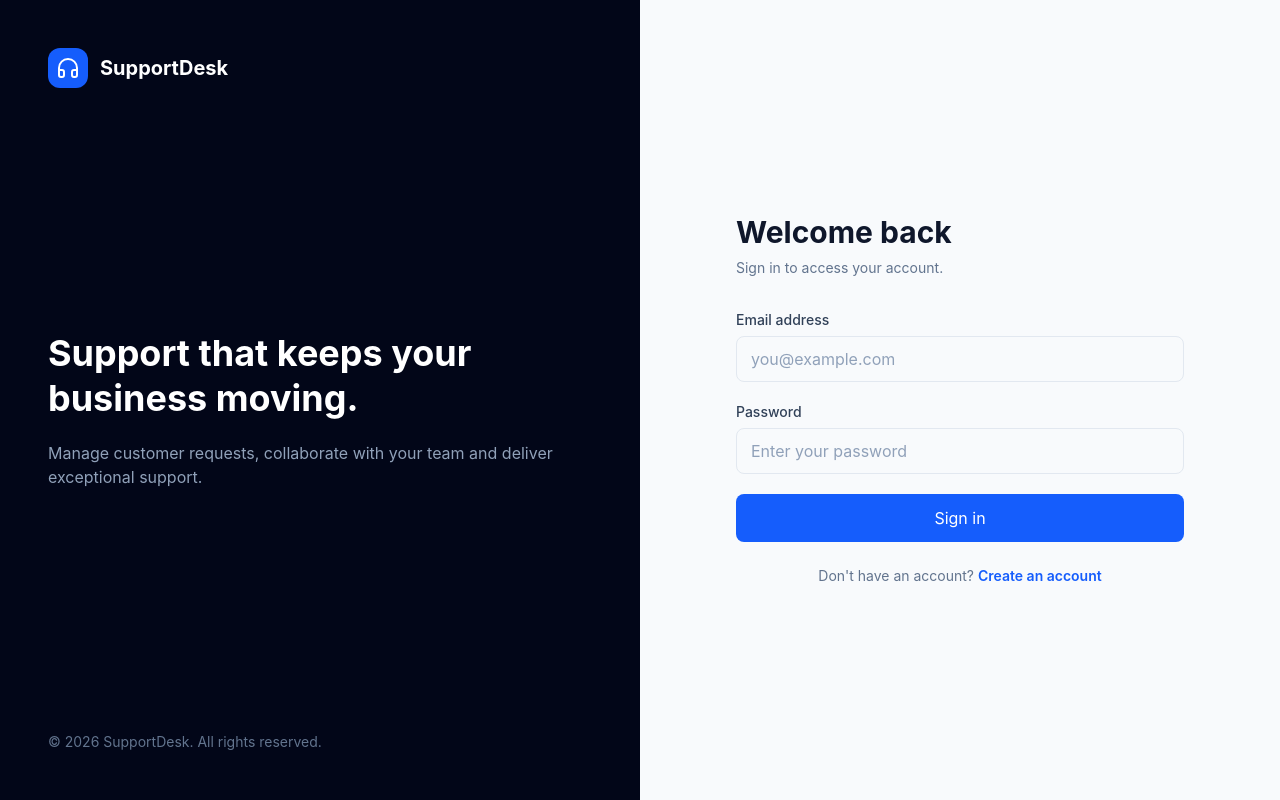
LoginPage › shows validation errors and does not submit invalid credentials
The width and height of the screenshot is (1280, 800).
Click the button "Sign in": [960, 518] box x1=736 y1=494 x2=1184 y2=542
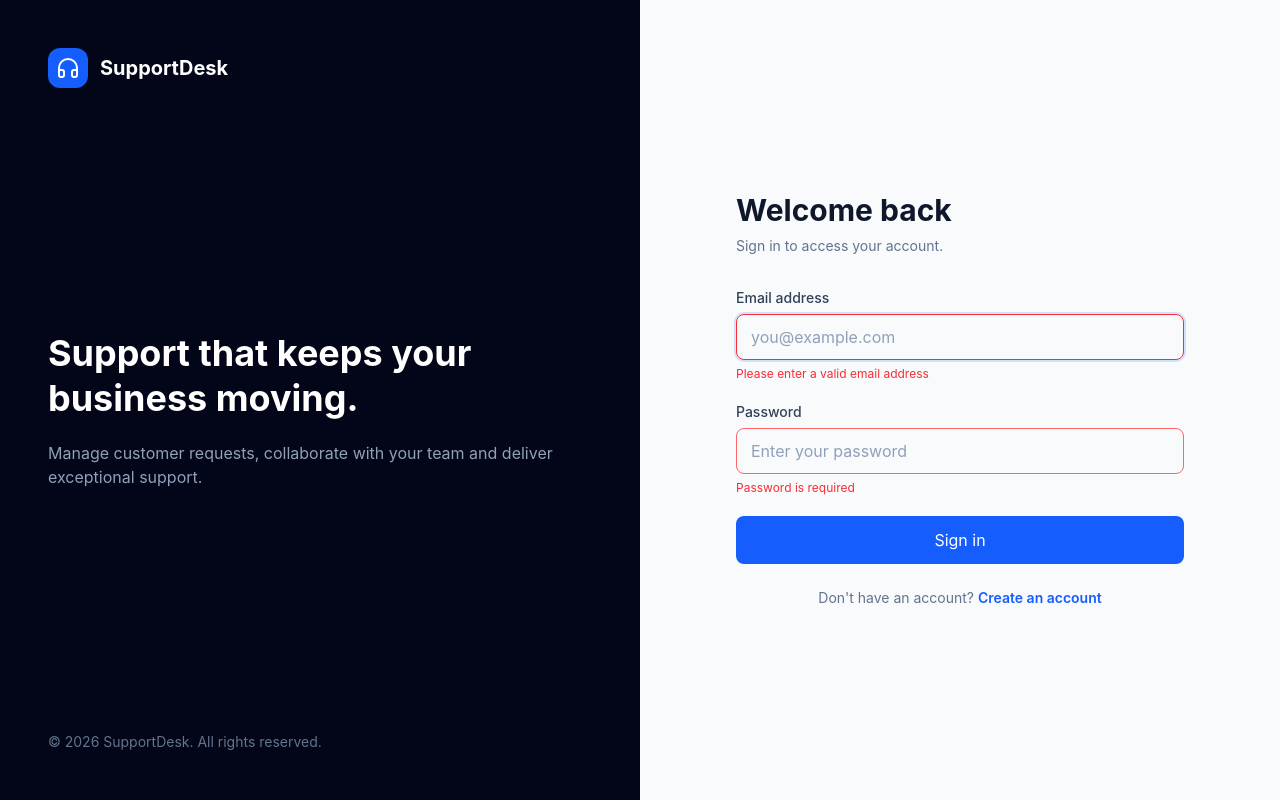
Now the text "Please enter a valid email address" is shown, box x1=736 y1=366 x2=929 y2=381
Now the text "Password is required" is shown, box x1=736 y1=480 x2=855 y2=495
